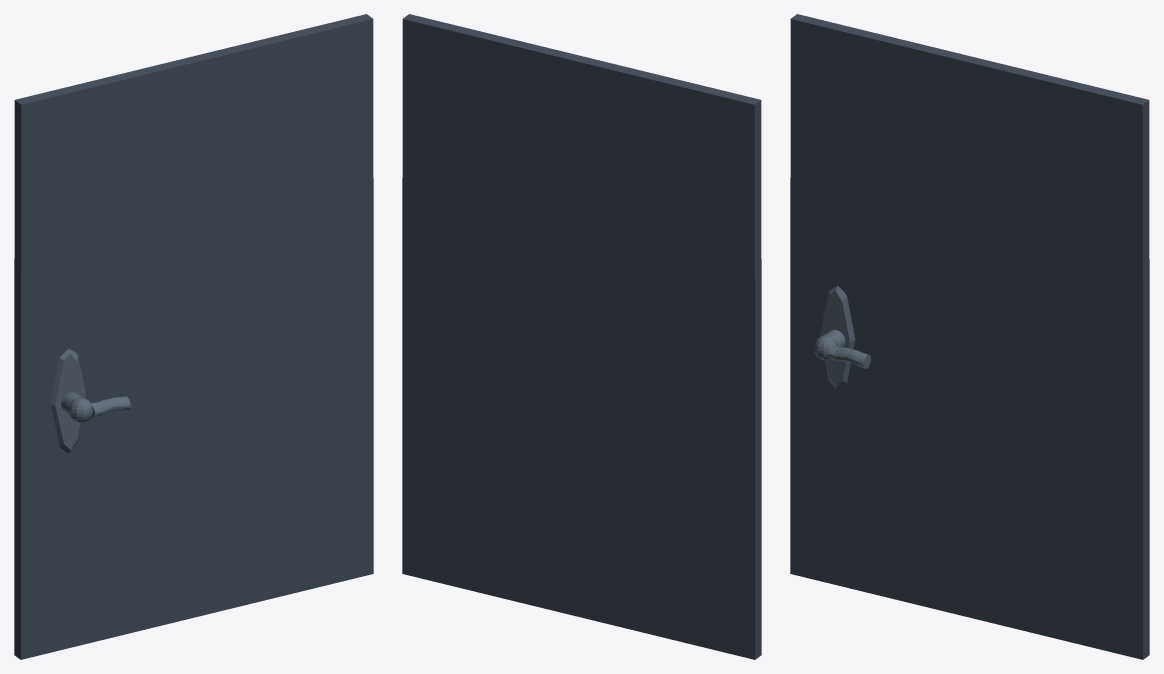
Rendered from door.fbx.
3 renders of one model, left to right at view 1: azimuth 30°, elevation 25°; view 2: azimuth 150°, elevation 25°; view 3: azimuth 330°, elevation 25°, orthographic.
Parts seen in each view (by area): view 1: immeuble.001; view 2: immeuble.001; view 3: immeuble.001.
Boxes of the visible parts, x1=… form: immeuble.001: x1=14, y1=14, x2=373, y2=659; immeuble.001: x1=402, y1=14, x2=761, y2=659; immeuble.001: x1=790, y1=14, x2=1149, y2=659.
Bounding box in the file's own units: 733 × 1102 × 90.01.
